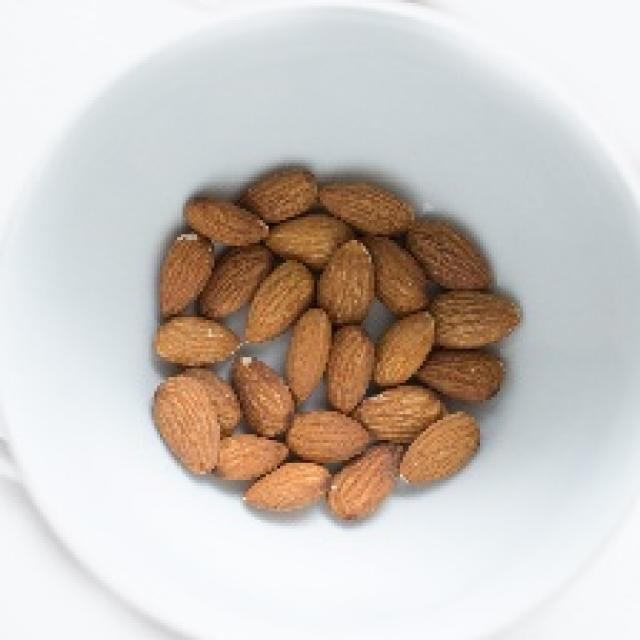almond: (152, 374, 221, 477), (403, 220, 497, 292), (397, 410, 482, 485), (357, 231, 429, 319), (243, 262, 318, 344), (198, 240, 272, 319), (328, 443, 401, 520), (355, 385, 448, 443), (229, 354, 293, 436), (319, 182, 414, 237), (316, 240, 375, 328), (160, 230, 216, 322), (433, 291, 521, 347), (417, 348, 506, 403), (373, 311, 437, 387), (266, 216, 355, 269), (325, 324, 376, 413), (285, 307, 332, 403), (286, 412, 374, 463), (154, 317, 244, 364), (239, 168, 317, 222), (183, 198, 268, 246), (241, 467, 326, 510), (213, 435, 292, 479)
